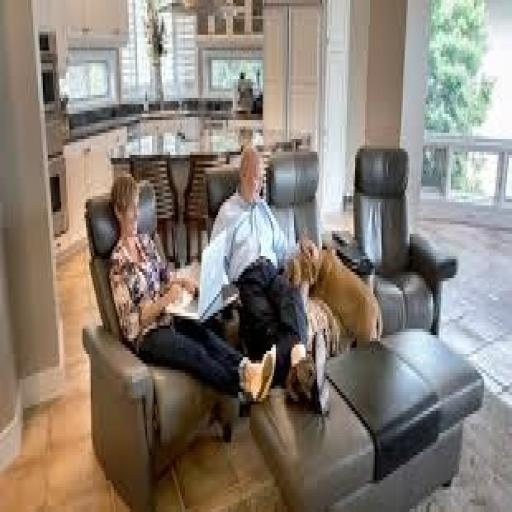sitting: (106, 168, 276, 408)
